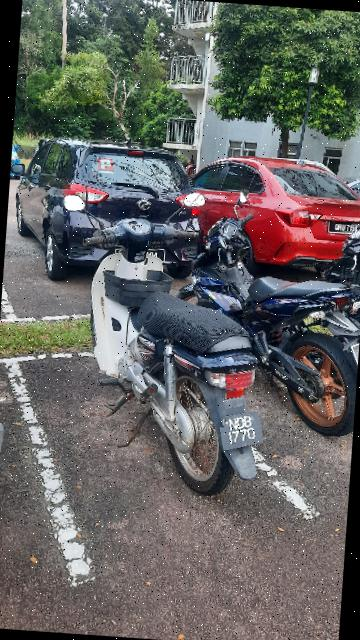License_Plate: (220, 406, 268, 455)
car: (4, 129, 209, 292), (173, 149, 360, 282)
motorcycle: (42, 180, 283, 503), (157, 177, 360, 442)
